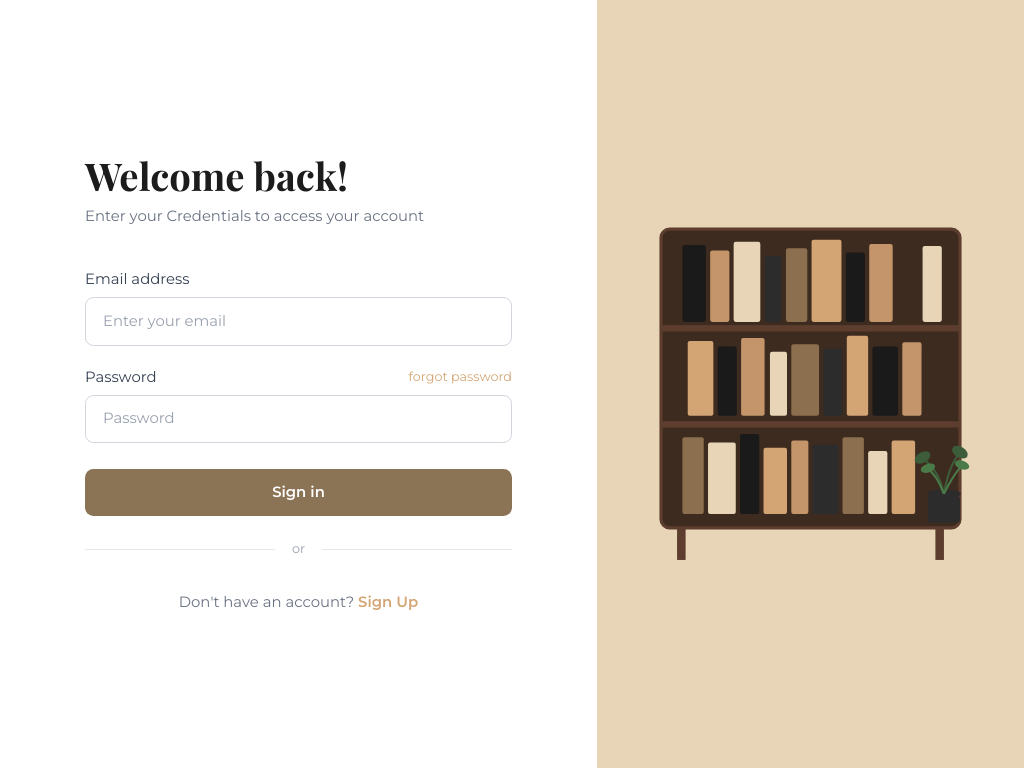
Test case: SignInPage › form submission › shows "Signing in…" while the login request is in flight
The image size is (1036, 768).
Step 1. Type "user@test.com" into the field with placeholder "Enter your email" → (298, 321), box 85,297 -> 512,346
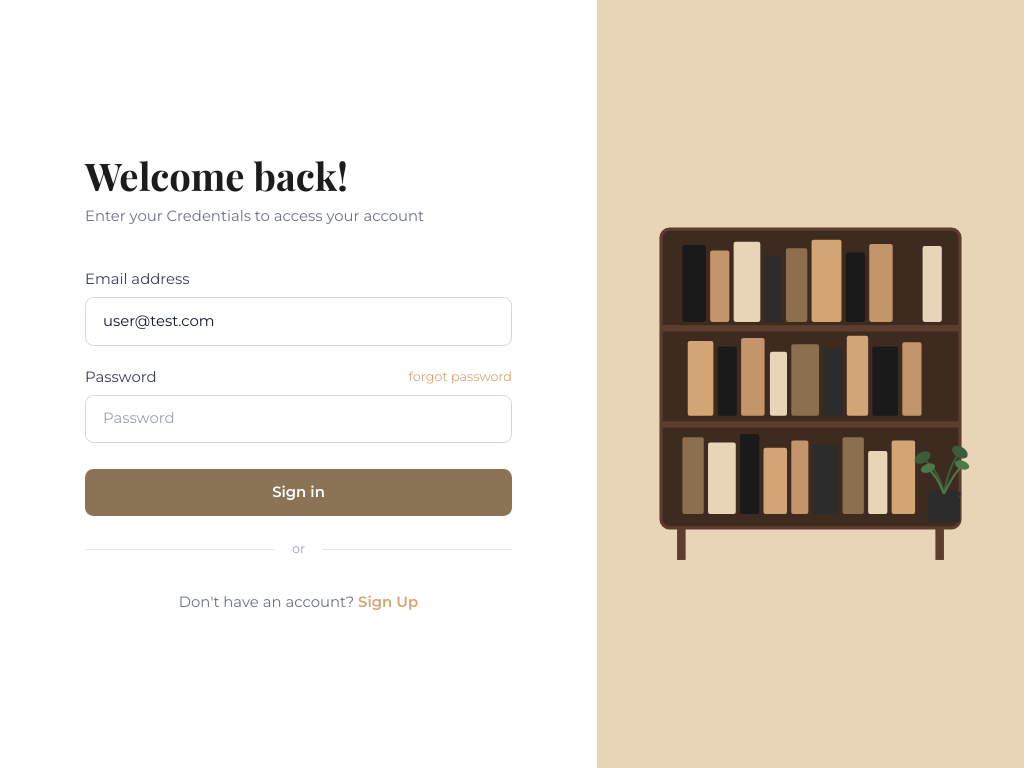
Step 2. Type "password123" into the password field with placeholder "Password" → (298, 419), box 85,395 -> 512,443
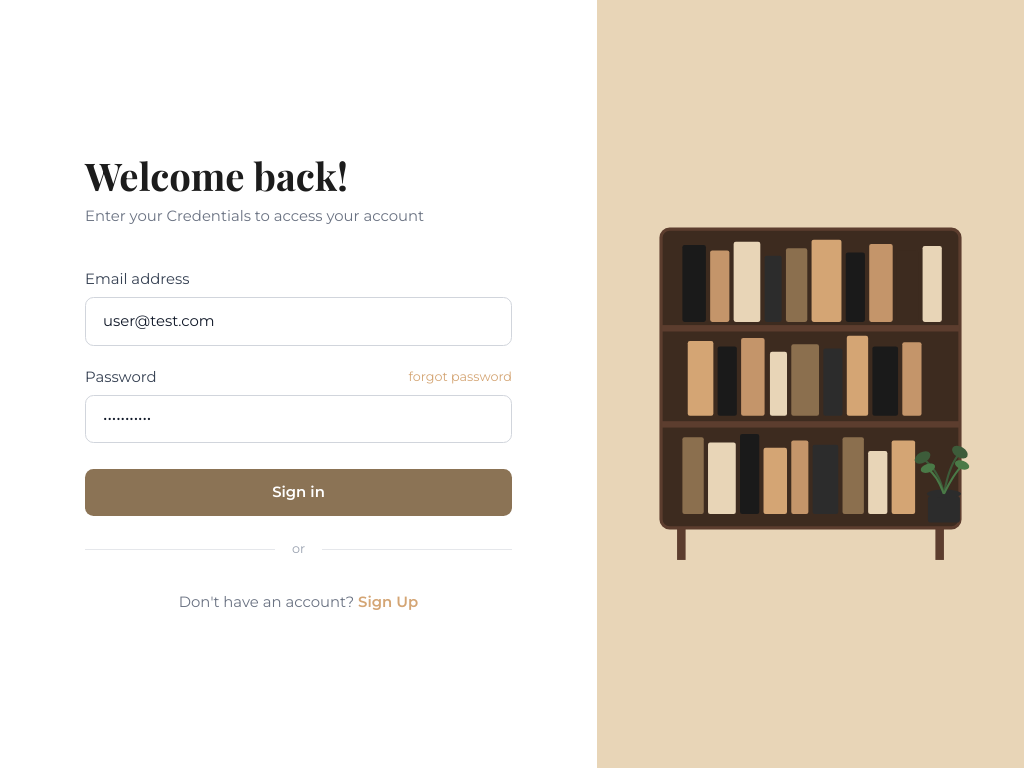
Step 3. Click the button "Sign in" → (298, 492), box 85,469 -> 512,516
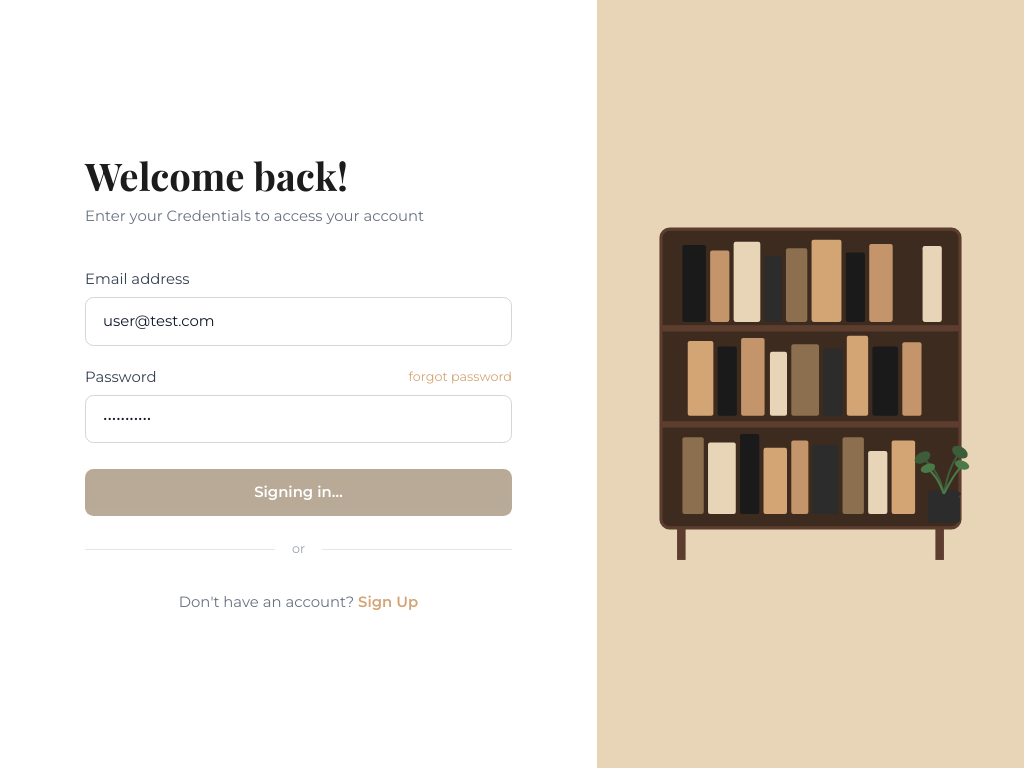
Check: the button "Signing in…" is shown, box 85,469 -> 512,516
